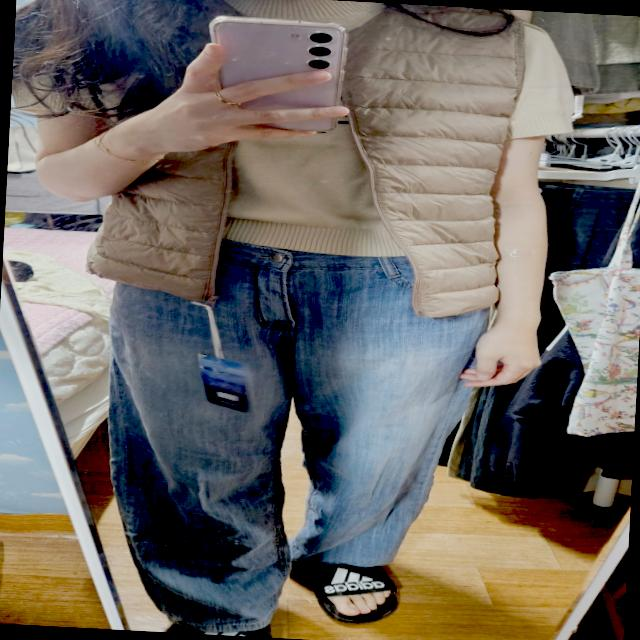denimpants: (104, 225, 473, 640)
padding: (80, 0, 513, 323)
